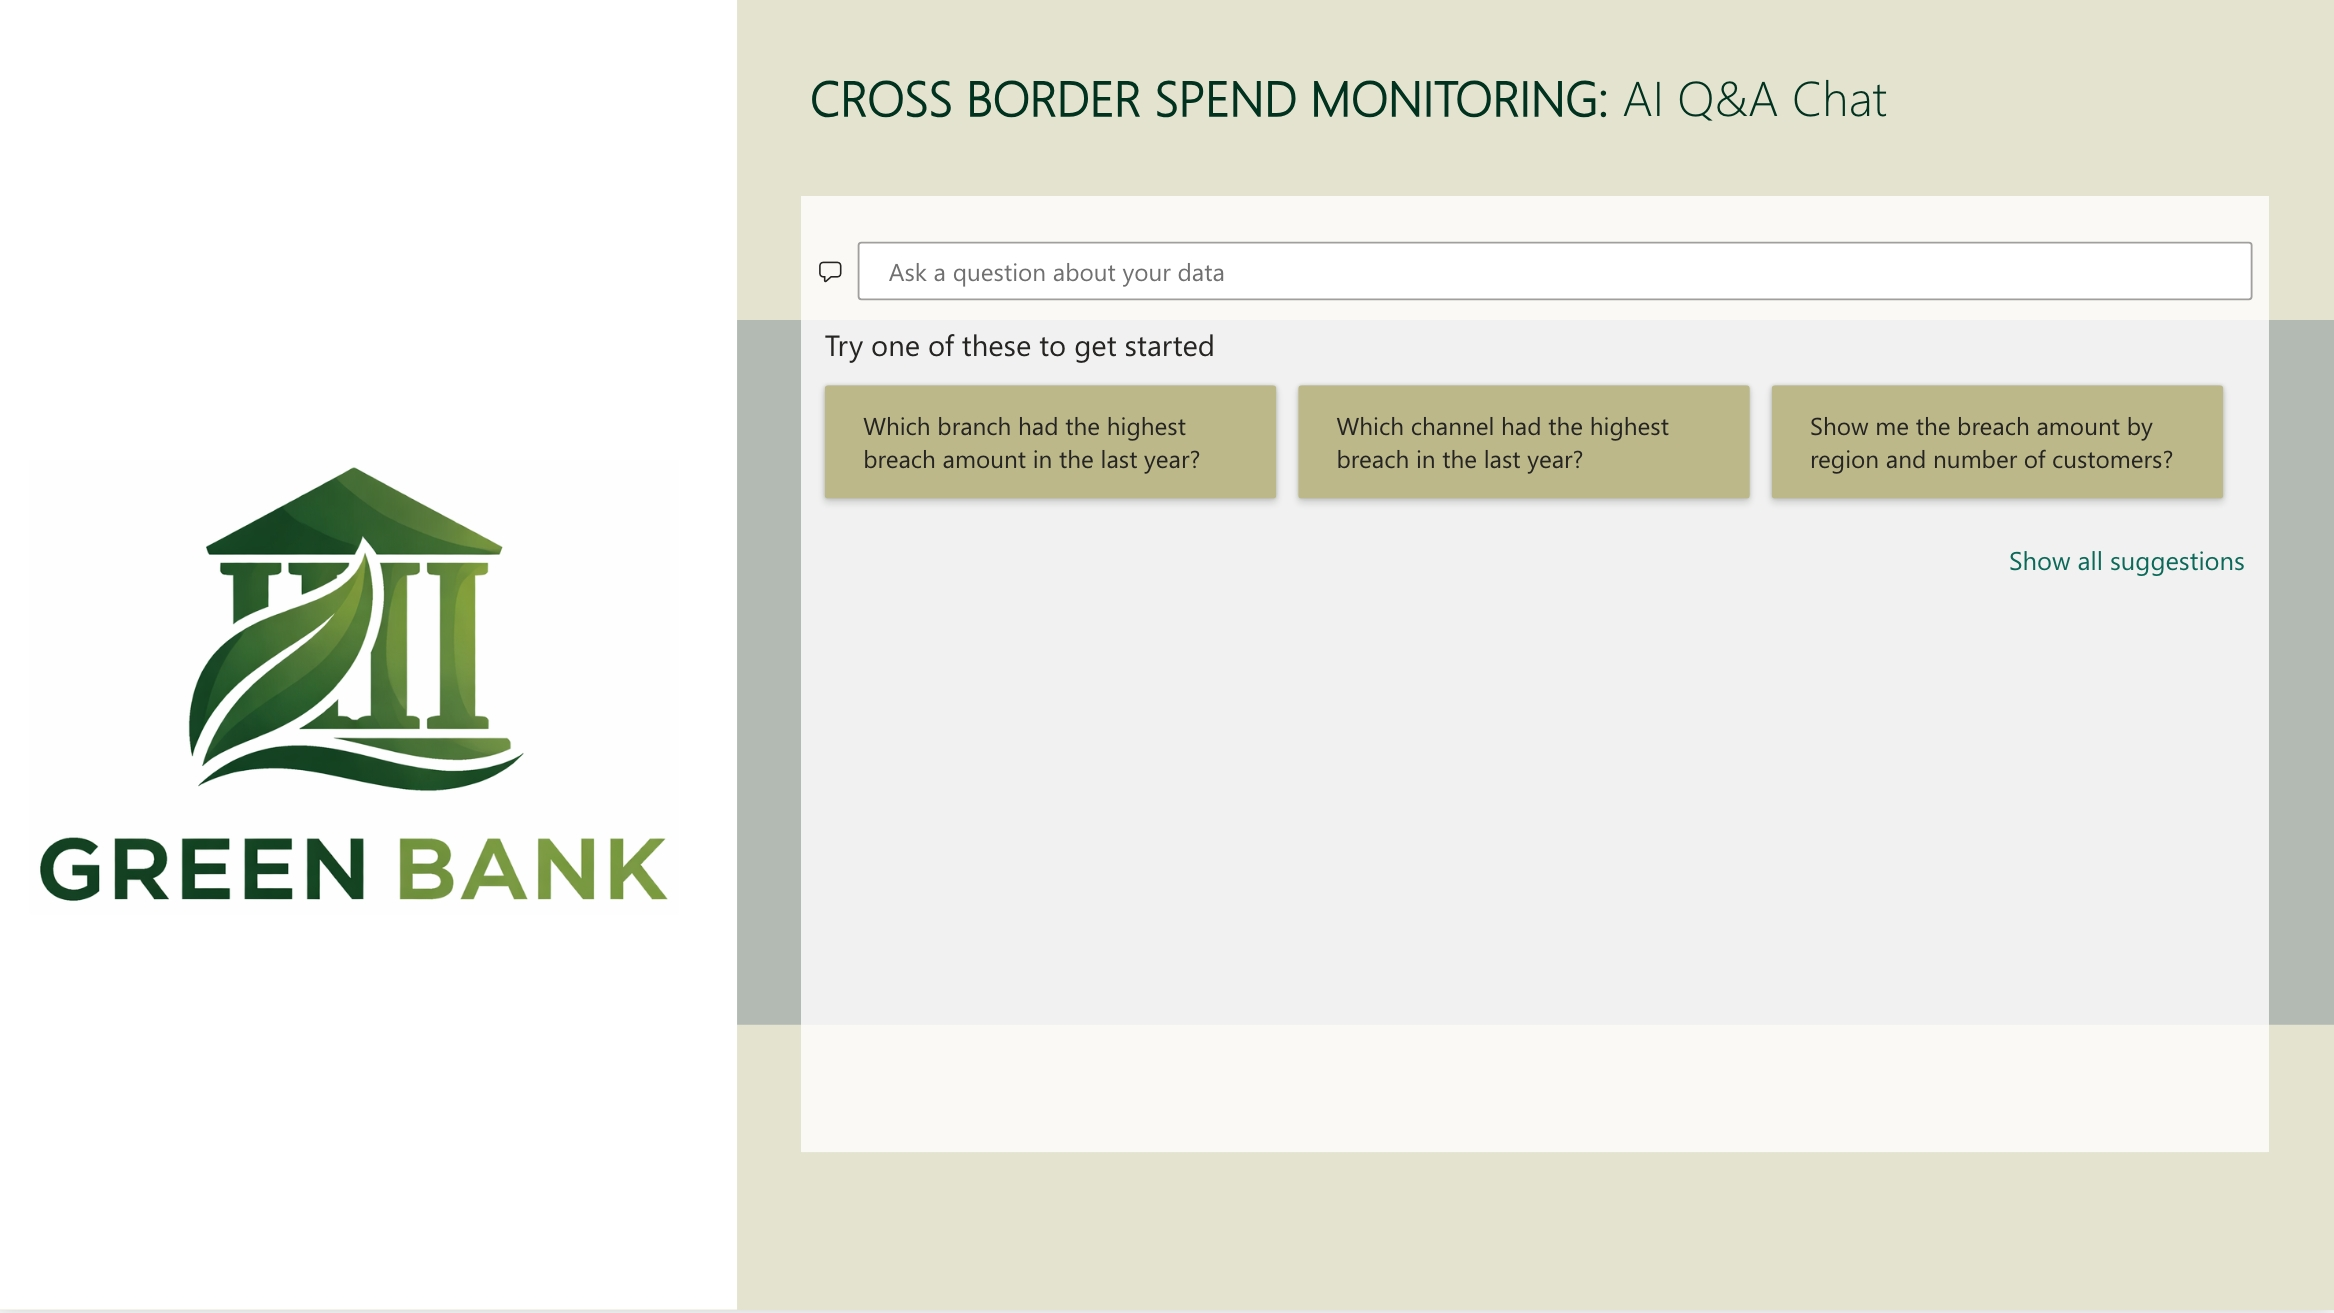

What the dashboard file says about the page in this screenshot:
{"tool":"powerbi","page":{"name":"AI Q&A Chat","canvas":[1280,720],"ordinal":3},"visuals":[{"type":"shape","box":[405.7,178.6,874.3,385.7],"z":0},{"type":"shape","box":[0,0,406.2,719.8],"z":1000},{"type":"image","box":[18.5,137,355.6,485.2],"z":2000},{"type":"textbox","box":[441.4,32.9,802.9,60],"z":3000},{"type":"qnaVisual","box":[441.4,110,802.9,522.9],"z":4000}]}

Visuals, with their boxes in screenshot pixels (x1, y1, x2, y2), scaled from the page's 1280x720 canvas onto the 2334x1313 screenshot:
shape: [left=740, top=326, right=2333, bottom=1029]
shape: [left=0, top=0, right=741, bottom=1312]
image: [left=34, top=250, right=682, bottom=1135]
textbox: [left=805, top=60, right=2269, bottom=169]
qnaVisual: [left=805, top=201, right=2269, bottom=1154]
